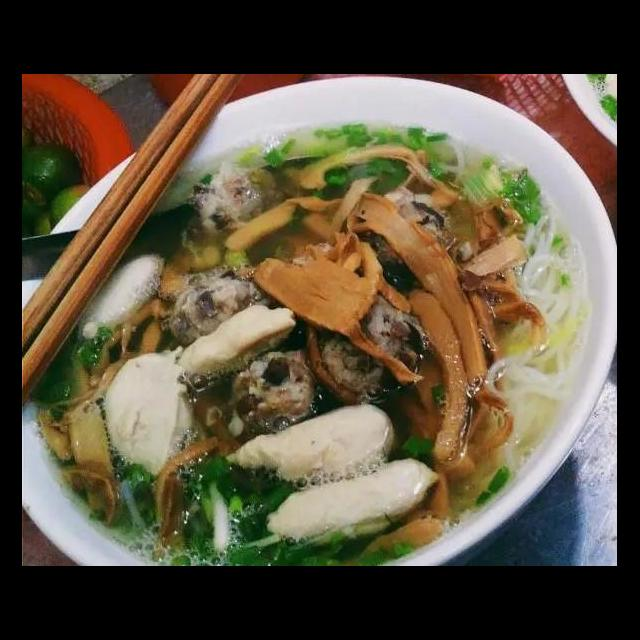bun: (484, 219, 596, 429)
vien moc: (318, 294, 417, 401), (164, 258, 272, 348), (228, 345, 320, 443), (190, 157, 278, 245)
